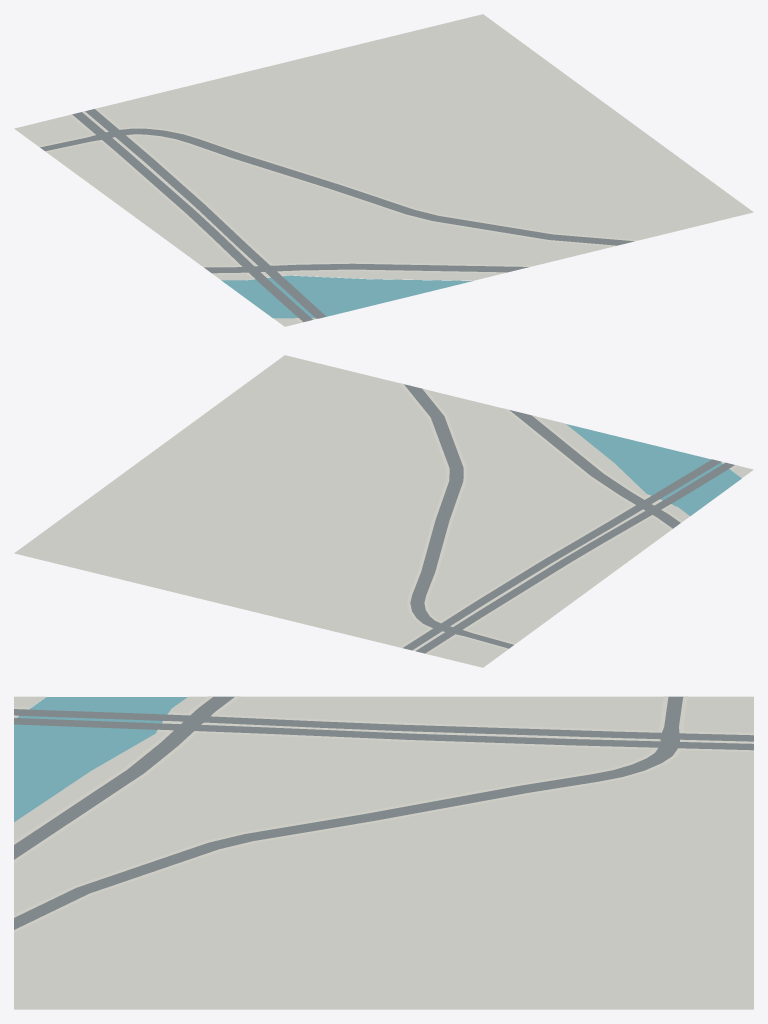
3 views of the same model, one above another, from view 1: azimuth 30°, elevation 25°; view 2: azimuth 150°, elevation 25°; view 3: azimuth 270°, elevation 25° (orthographic). The views are drawn at different scales.
Parts seen in each view (by area): view 1: city; view 2: city; view 3: city.
Part boxes in pixels (x1,y1,x2,y2): city: (14,14,753,326); city: (14,355,753,667); city: (14,696,753,1009).
Size of the model in its own units: 500 by 0.4 by 500.
